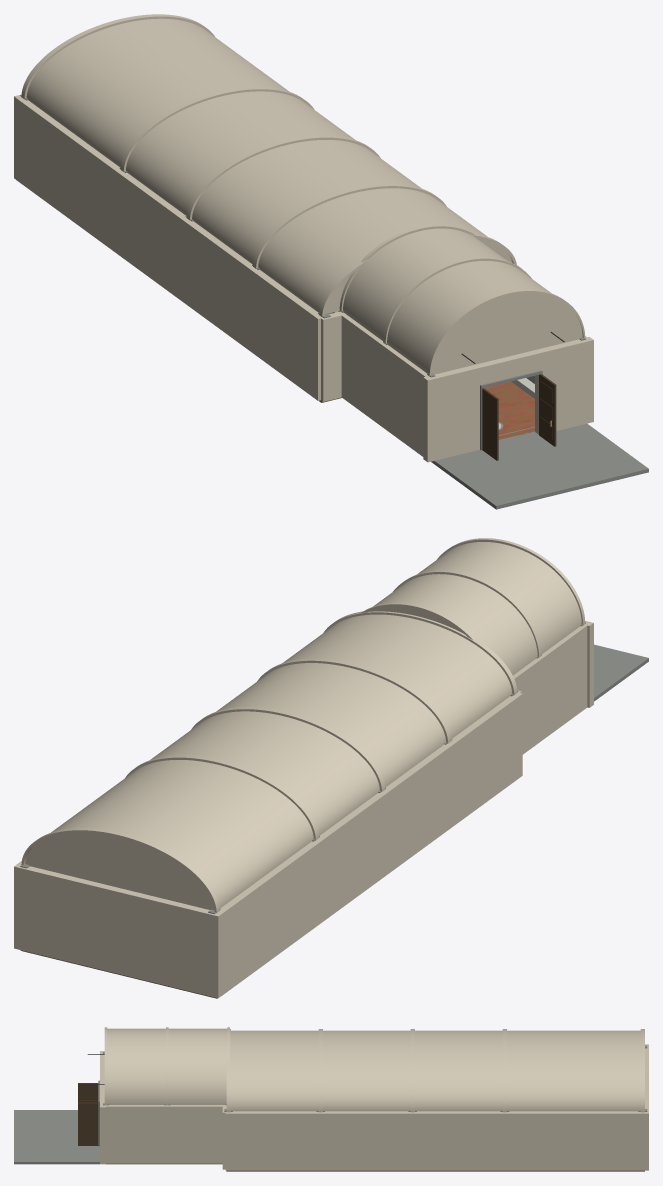
Rendered from galleria.glb.
The picture shows the model from 3 angles, top to bottom: view 1: azimuth 30°, elevation 25°; view 2: azimuth 150°, elevation 25°; view 3: azimuth 270°, elevation 25°; orthographic projection. The views are drawn at different scales.
Visible parts, largest first — view 1: Volta a botte sala principale, Muratura laterale, Volta a botte sala confronto, Volta sala vita quadrata, Pedana esterna neutra, Lunetta sala vita, Parete sala vita, Facciata laterale ingresso, Facciata laterale ingresso.001, Cotto sala vita, Raccordo parete fra sale, Architrave ingresso (+8 smaller); view 2: Volta a botte sala principale, Muratura laterale, Volta a botte sala confronto, Parete fondo confronto, Volta sala vita quadrata, Lunetta terminale.001, Parete sala vita, Pedana esterna neutra, Arco trasversale.004, Arco trasversale.001, Arco trasversale.003, Arco trasversale.002 (+3 smaller); view 3: Muratura laterale.001, Volta a botte sala principale, Volta a botte sala confronto, Volta sala vita quadrata, Parete sala vita.001, Pedana esterna neutra, Anta aperta ingresso.001, Sottofondo, Facciata laterale ingresso.001, Parete fondo confronto, Arco trasversale.001, Arco trasversale.002 (+7 smaller).
Part boxes in pixels (x1=…): Volta a botte sala principale: x1=126, y1=91, x2=487, y2=312; Muratura laterale: x1=16, y1=97, x2=320, y2=400; Volta a botte sala confronto: x1=26, y1=18, x2=289, y2=167; Volta sala vita quadrata: x1=343, y1=228, x2=551, y2=373; Pedana esterna neutra: x1=431, y1=423, x2=648, y2=509; Lunetta sala vita: x1=431, y1=293, x2=582, y2=374; Parete sala vita: x1=339, y1=311, x2=427, y2=456; Facciata laterale ingresso: x1=423, y1=364, x2=482, y2=462; Facciata laterale ingresso.001: x1=535, y1=337, x2=593, y2=434; Cotto sala vita: x1=484, y1=381, x2=534, y2=439; Raccordo parete fra sale: x1=319, y1=312, x2=341, y2=401; Architrave ingresso: x1=478, y1=350, x2=539, y2=384; Volta a botte sala principale: x1=150, y1=614, x2=512, y2=835; Muratura laterale: x1=215, y1=692, x2=522, y2=996; Volta a botte sala confronto: x1=51, y1=760, x2=313, y2=908; Parete fondo confronto: x1=14, y1=863, x2=221, y2=998; Volta sala vita quadrata: x1=373, y1=542, x2=581, y2=675; Lunetta terminale.001: x1=25, y1=832, x2=213, y2=909; Parete sala vita: x1=513, y1=625, x2=587, y2=754; Pedana esterna neutra: x1=594, y1=644, x2=648, y2=701; Arco trasversale.004: x1=21, y1=828, x2=219, y2=912; Arco trasversale.001: x1=257, y1=658, x2=451, y2=743; Arco trasversale.003: x1=125, y1=755, x2=318, y2=840; Arco trasversale.002: x1=191, y1=707, x2=384, y2=791; Muratura laterale.001: x1=225, y1=1111, x2=645, y2=1170; Volta a botte sala principale: x1=231, y1=1030, x2=502, y2=1111; Volta a botte sala confronto: x1=507, y1=1030, x2=640, y2=1111; Volta sala vita quadrata: x1=107, y1=1028, x2=227, y2=1104; Parete sala vita.001: x1=106, y1=1105, x2=225, y2=1163; Pedana esterna neutra: x1=14, y1=1110, x2=99, y2=1164; Anta aperta ingresso.001: x1=78, y1=1102, x2=98, y2=1145; Sottofondo: x1=226, y1=1170, x2=644, y2=1171; Facciata laterale ingresso.001: x1=100, y1=1088, x2=105, y2=1164; Parete fondo confronto: x1=645, y1=1044, x2=648, y2=1170; Arco trasversale.001: x1=318, y1=1029, x2=322, y2=1112; Arco trasversale.002: x1=410, y1=1029, x2=414, y2=1112.
Bounding box in the file's own units: 10.72 × 7.49 × 41.4.
